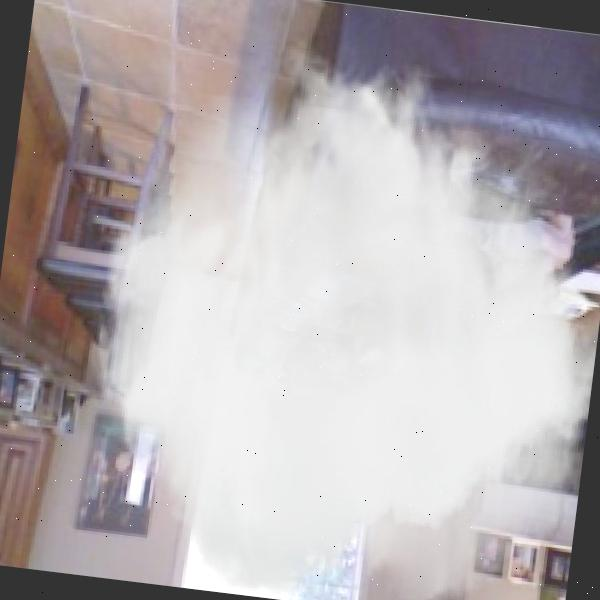smoke: (62, 14, 600, 600)
